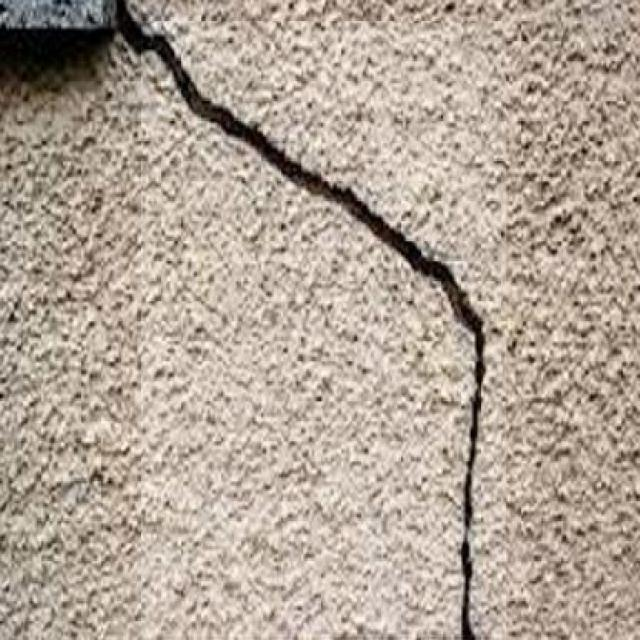Crack: (120, 1, 498, 640)
